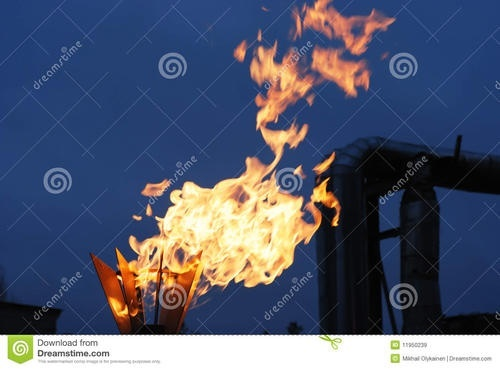fire: (127, 3, 379, 300)
